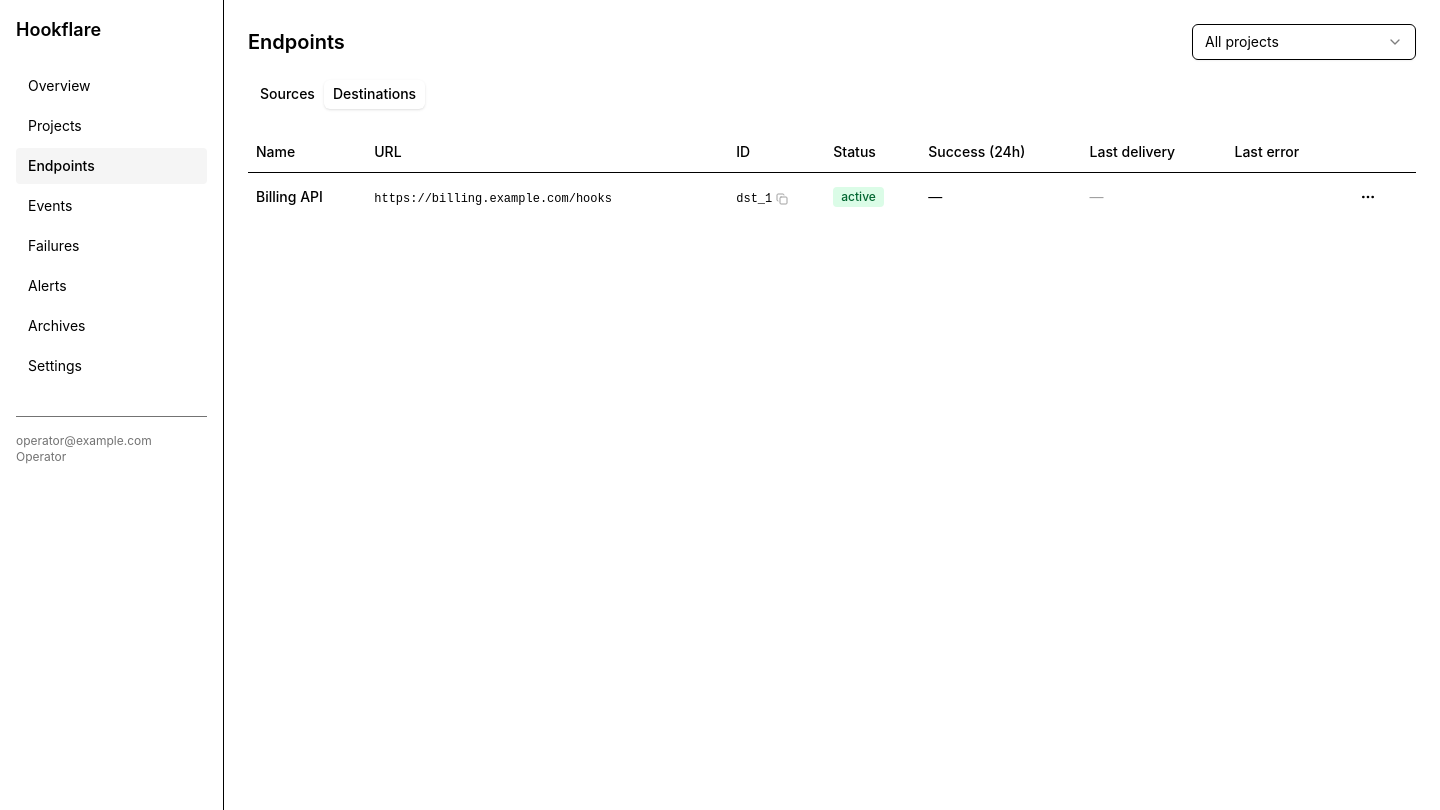
Test: Destinations tab › shows operator actions to operators and hides Rotate
The image size is (1440, 810).
Click the button named "Actions": [1368, 196] box left=1350, top=180, right=1386, bottom=212
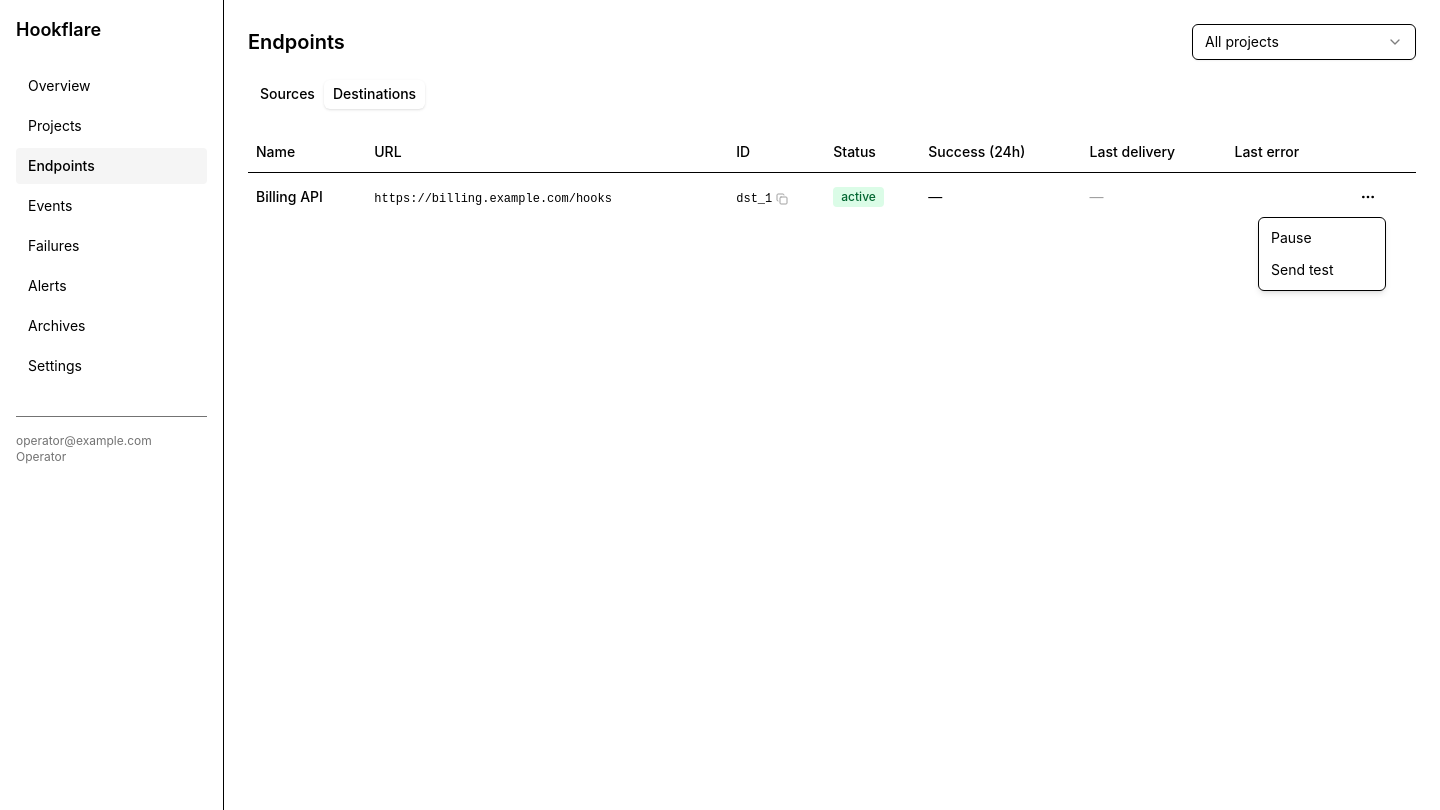
Result: the menu item "Pause" is shown at left=1271, top=229, right=1312, bottom=246
Result: the menu item "Send test" is shown at left=1271, top=261, right=1334, bottom=278
